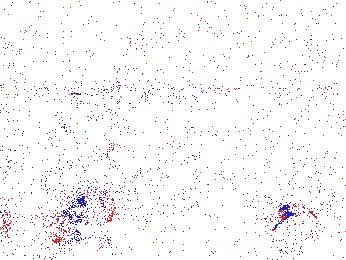flame jellyfish: (60, 94, 116, 159), (266, 203, 323, 254), (51, 188, 115, 232)
